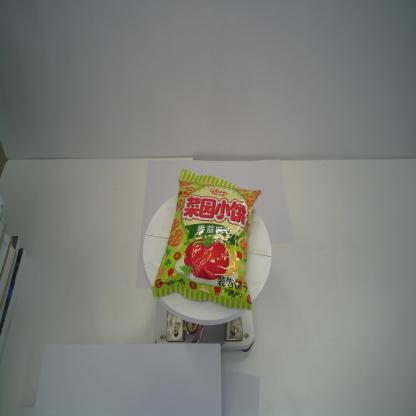Puffed Food: (151, 168, 262, 312)
